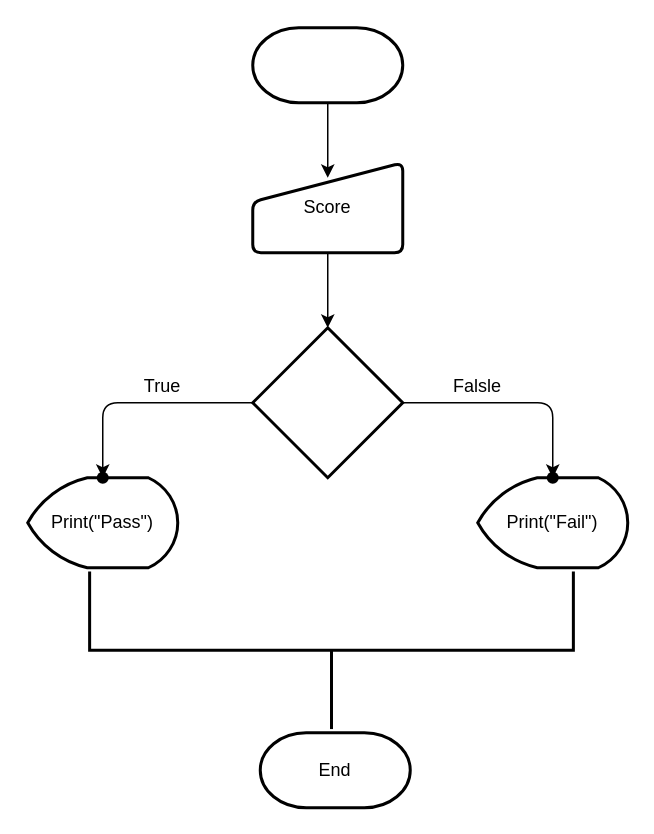
The diagram is 654 pixels wide and 834 high, and some of its shapes have lost their labels. Each missing label, with the box of its shape:
Begin: (250, 26, 404, 104)
Score >= 60: (250, 326, 404, 478)
